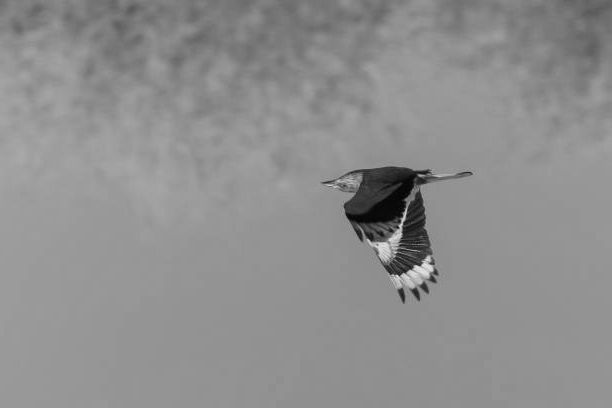Bird: (313, 163, 474, 306)
